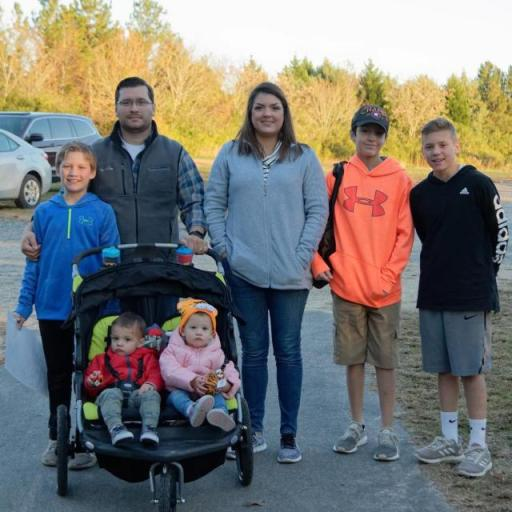Under Armour: (340, 183, 388, 217)
